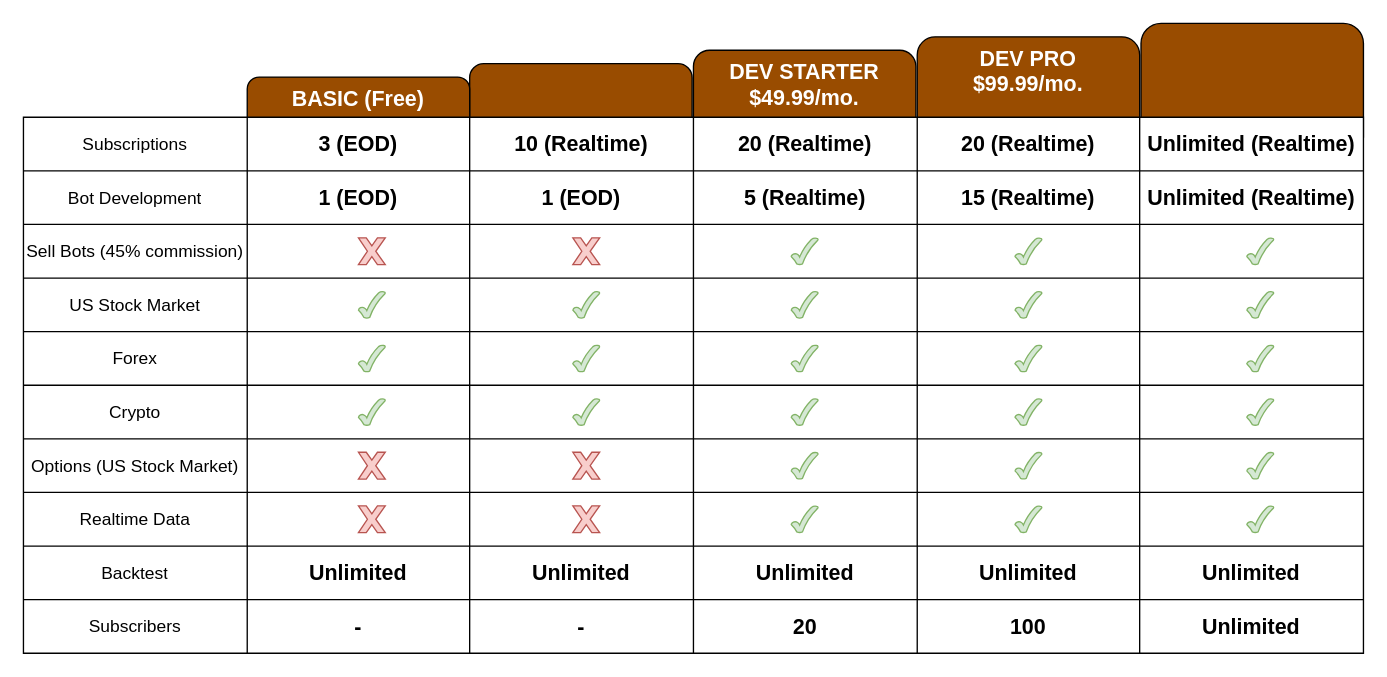
Some shapes in this 1387 by 677 pixel diagram are drawn without their labels. Here are the shapes that lost their labels. From the top down, the box of each, then its label:
(468, 62, 692, 157): PREMUM $24.99/mo.
(1140, 22, 1363, 157): UNLIMITED (BUSNESS) $799.99/mo.
